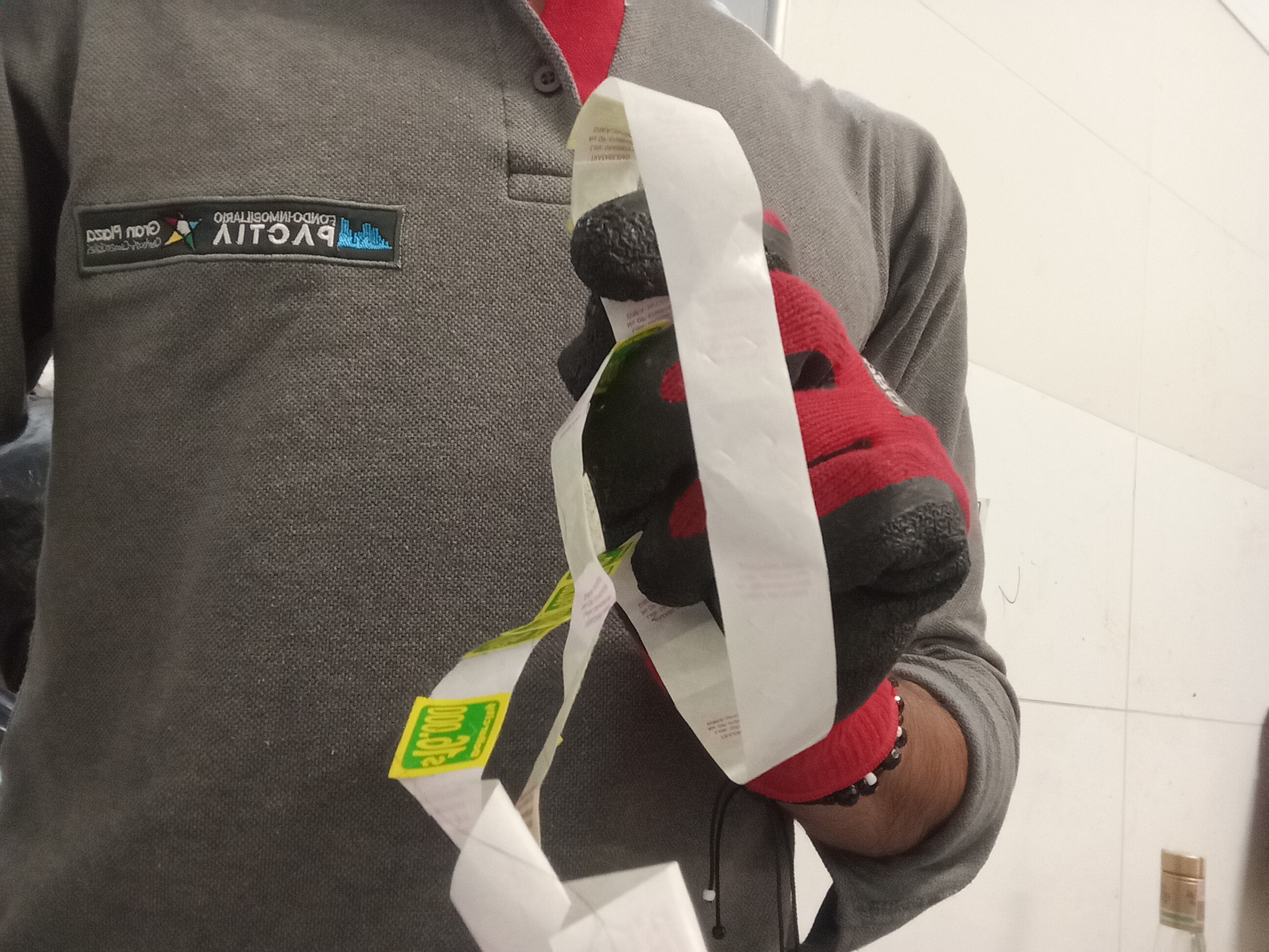Ordinario: (389, 74, 842, 952)
